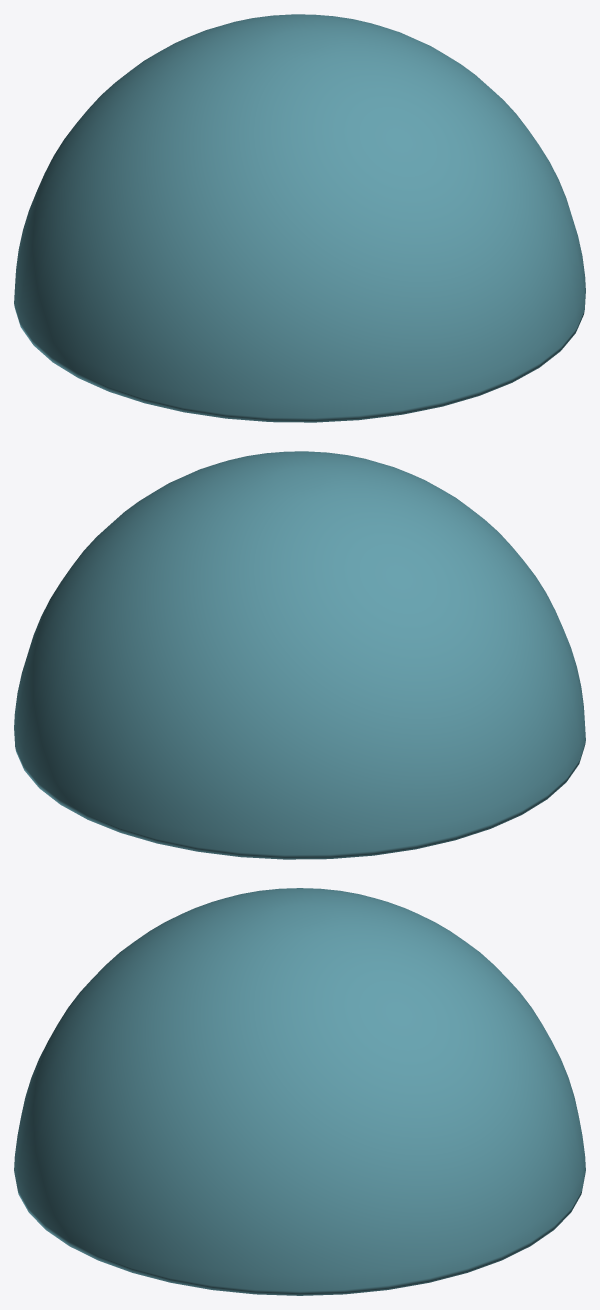
Rendered from Dome_URP.fbx.
3 views of the same model, one above another, from view 1: azimuth 30°, elevation 25°; view 2: azimuth 150°, elevation 25°; view 3: azimuth 270°, elevation 25° (orthographic).
Parts seen in each view (by area): view 1: domeMain; view 2: domeMain; view 3: domeMain.
Boxes of the visible parts, x1,y1,x2,y2 form: domeMain: [14, 14, 585, 422]; domeMain: [14, 451, 585, 859]; domeMain: [14, 888, 585, 1295].
Bounding box in the file's own units: 24.42 × 12.33 × 24.42.
